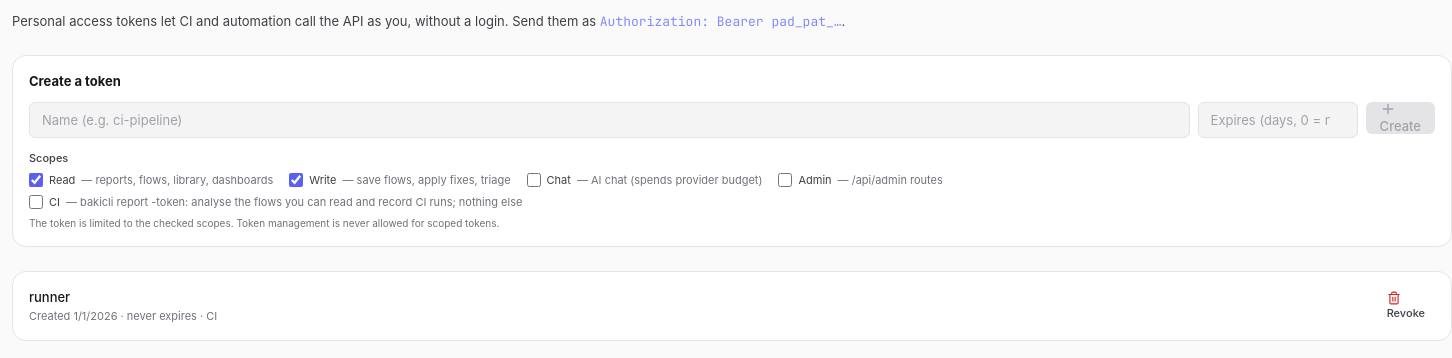
Scenario: ApiTokensPanel › lists a CI token by its scope and says what an unscoped token cannot do
This screenshot has width=1452, height=358.
Expected: the text "runner" is shown, x1=29 y1=289 x2=70 y2=305
Expected: the text titled "Scopes" next to "never expires" reads "CI", x1=206 y1=309 x2=217 y2=323
Step 1. Click the checkbox labelled "Read" → x=36, y=180, box x1=29 y1=173 x2=43 y2=187
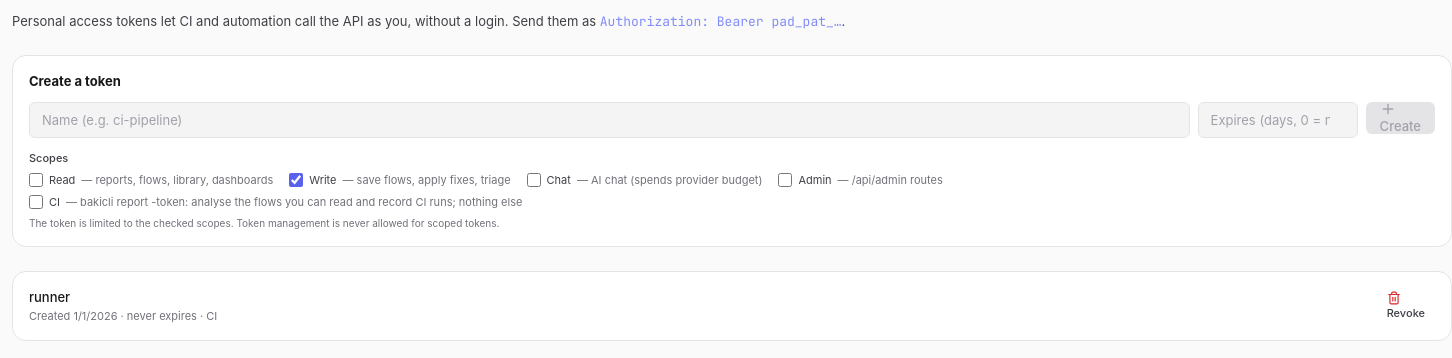
Step 2. Click the checkbox labelled "Write" → x=296, y=180, box x1=289 y1=173 x2=303 y2=187
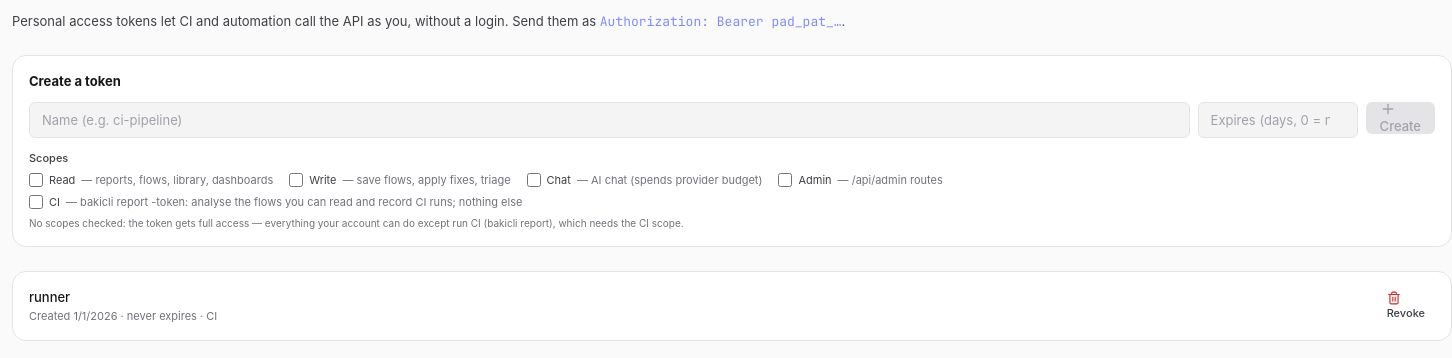
Result: the text "except run CI (bakicli report), which needs the CI scope" is shown at x1=29 y1=217 x2=684 y2=229
